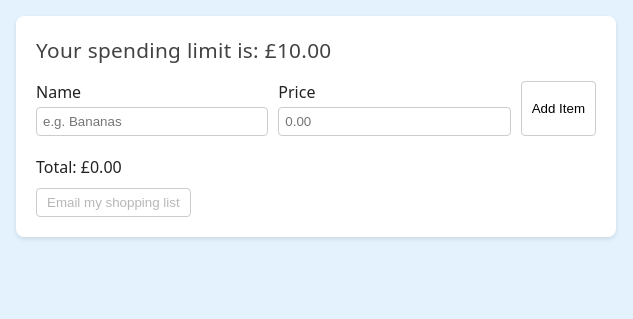
Test: ShoppingList component › successfully removes item from list
The image size is (633, 319).
Type "Coffee" into the field labelled "Name" at [152, 122], box [36,107,268,136]
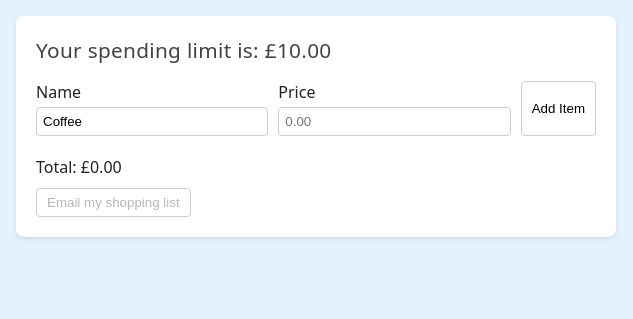
Type "2" into the number field labelled "Price" at [394, 122], box [278,107,511,136]
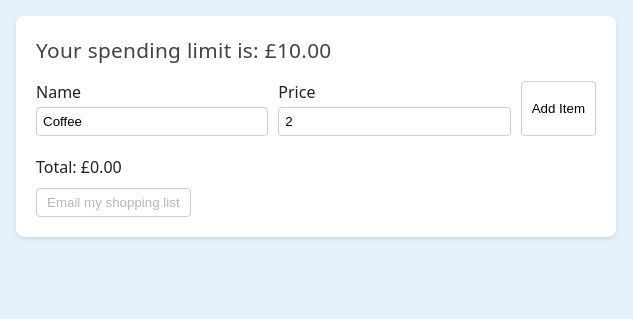
Click the button "Add Item" at [558, 109], box [521,81,596,136]
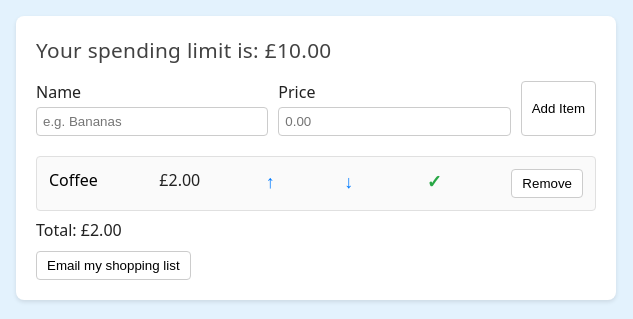
Click the button "Remove" at [547, 184], box [511,169,583,198]
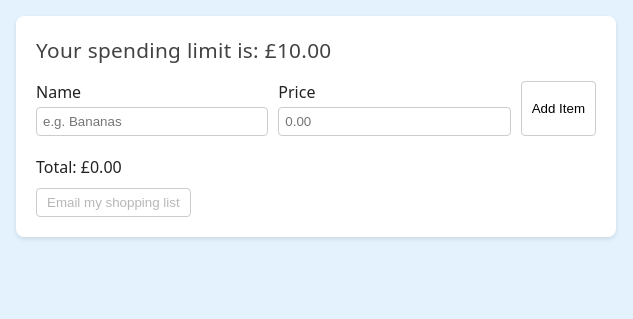
Check: the text "Coffee" is gone
Check: the list item "£2.00" is gone
